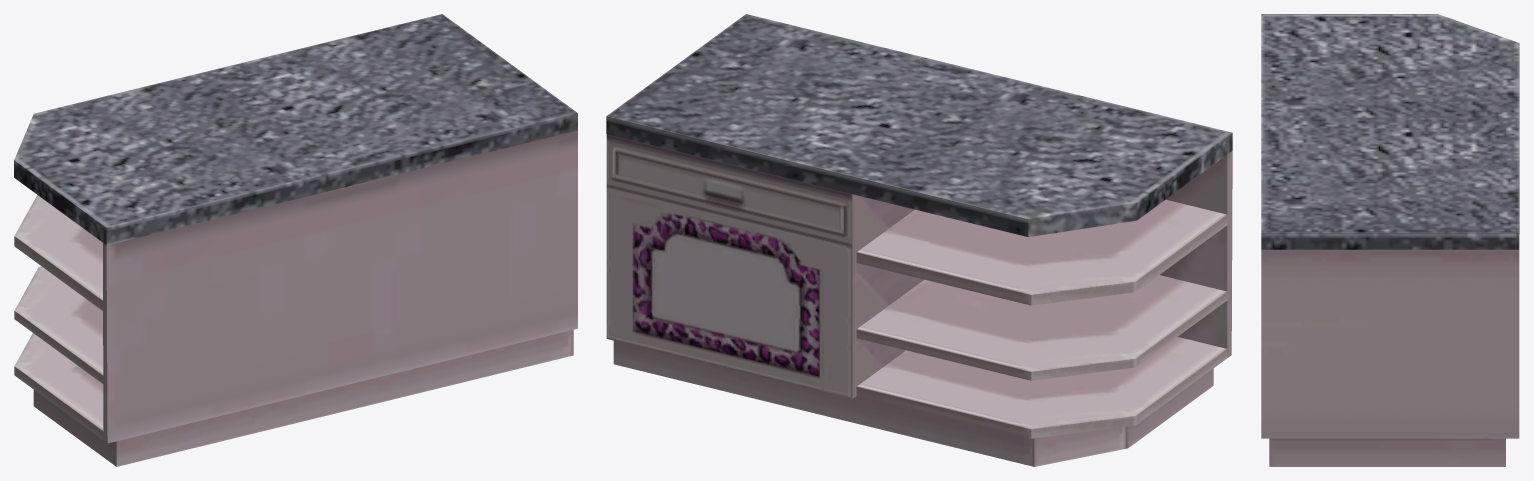
The model's file is furni_0200090_02.FBX.
The picture shows the model from 3 angles, left to right: view 1: azimuth 30°, elevation 25°; view 2: azimuth 150°, elevation 25°; view 3: azimuth 270°, elevation 25°; orthographic projection. The views are drawn at different scales.
Parts seen in each view (by area): view 1: furni_0200090_02; view 2: furni_0200090_02; view 3: furni_0200090_02.
Part boxes in pixels (x1,y1,x2,y2): furni_0200090_02: (14,14,577,466); furni_0200090_02: (606,14,1232,466); furni_0200090_02: (1261,14,1519,466).
Size of the model in its own units: 161 by 80 by 80.
